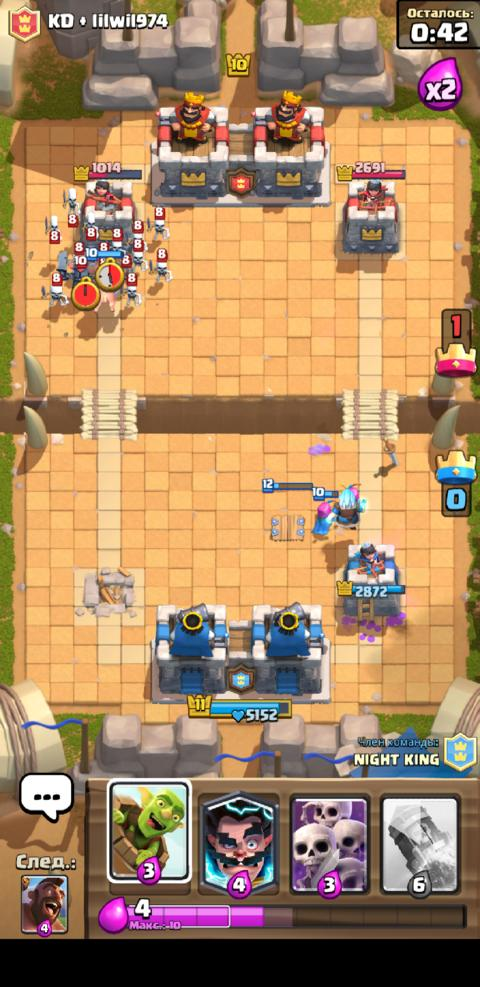ally_archer: (310, 486, 337, 537), (343, 479, 360, 499)
ally_hog_rider: (83, 247, 123, 314)
ally_ice_wizard: (331, 487, 366, 530)
ally_tesla_hidden: (258, 476, 313, 542)
enemy_mini_pekka: (54, 240, 88, 287)
enemy_skeleton: (38, 271, 70, 308), (146, 247, 172, 284), (60, 186, 81, 228), (145, 206, 169, 240), (122, 271, 141, 306), (128, 238, 146, 272), (128, 217, 147, 248), (41, 213, 61, 242), (81, 214, 99, 238), (108, 226, 123, 249), (128, 219, 143, 241)
